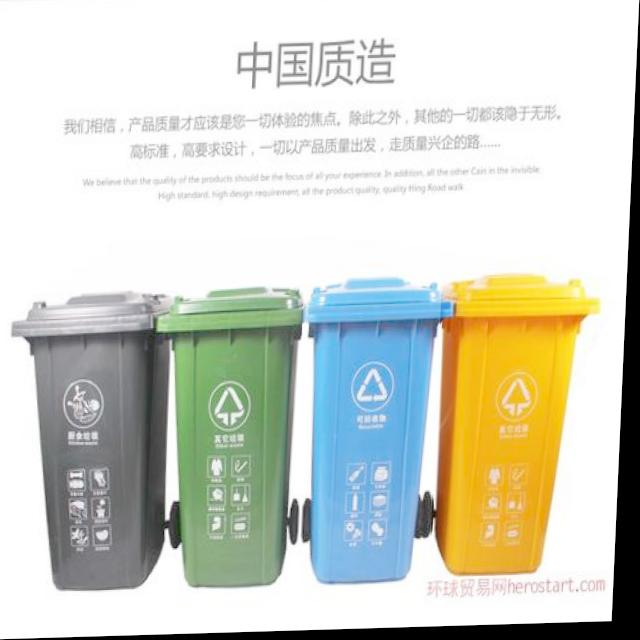garbage_bin: (3, 290, 178, 592), (434, 274, 603, 580), (297, 277, 457, 586), (149, 286, 309, 592)
